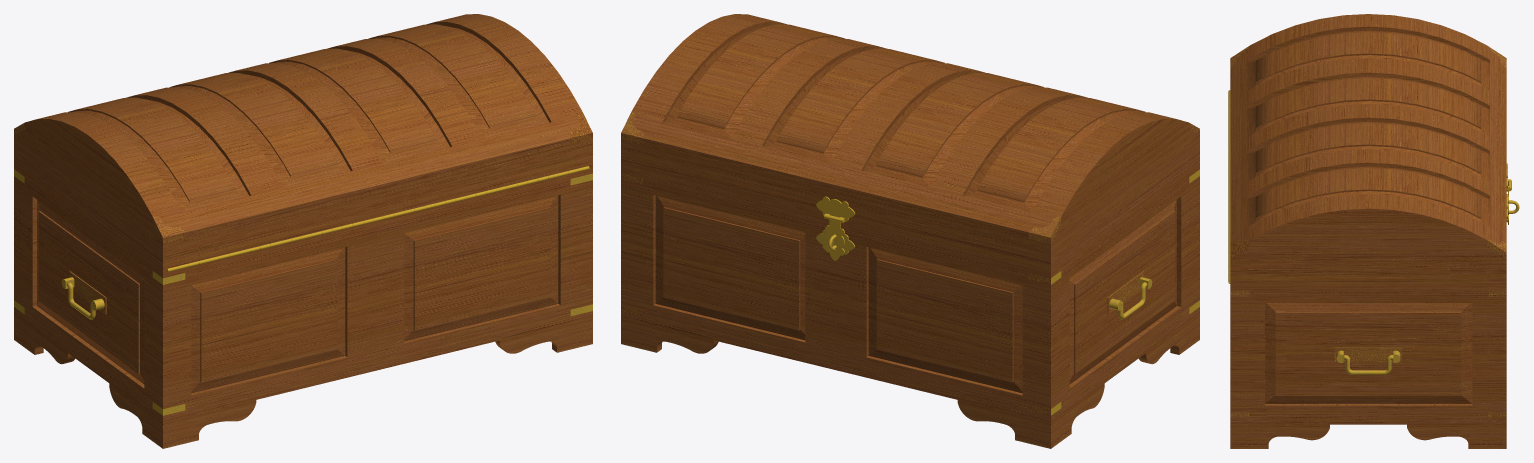
File: Brasswood-chest (1).fbx
3 renders of one model, left to right at view 1: azimuth 30°, elevation 25°; view 2: azimuth 150°, elevation 25°; view 3: azimuth 270°, elevation 25°, orthographic. The views are drawn at different scales.
Visible parts, largest first — view 1: Component_1, ID859, ID565 (×2), ID32 (×4), Component_3 (×4), Component_2 (×2), ID539, Component_4 (×3), ID523, ID531, Piano_hing_lower_2; view 2: Component_1, ID859, ID565 (×2), ID32 (×4), Component_3 (×4), Component_2 (×2), ID539, Component_4 (×3), ID523, Component_11, Component_9; view 3: Component_1, ID32 (×4), ID859, ID539, Component_3 (×4), ID523, Component_4 (×2), Component_6, ID531, Component_13, Piano_hing_lower_2.
Boxes of the visible parts, x1,y1,x2,y2 form: Component_1: [14, 14, 592, 271]; ID859: [14, 163, 592, 422]; ID565 (×2): [201, 208, 550, 382]; ID32 (×4): [78, 24, 536, 200]; Component_3 (×4): [68, 22, 549, 212]; Component_2 (×2): [191, 195, 560, 395]; ID539: [38, 211, 138, 373]; Component_4 (×3): [14, 314, 592, 448]; ID523: [37, 200, 144, 384]; ID531: [32, 197, 144, 388]; Piano_hing_lower_2: [167, 166, 589, 272]; Component_1: [621, 14, 1199, 271]; ID859: [621, 163, 1199, 422]; ID565 (×2): [663, 208, 1012, 382]; ID32 (×4): [677, 24, 1135, 200]; Component_3 (×4): [663, 22, 1145, 212]; Component_2 (×2): [653, 195, 1022, 395]; ID539: [1075, 211, 1175, 373]; Component_4 (×3): [621, 314, 1199, 448]; ID523: [1069, 197, 1181, 384]; Component_11: [816, 196, 855, 222]; Component_9: [825, 215, 844, 260]; Component_1: [1230, 14, 1506, 284]; ID32 (×4): [1256, 32, 1480, 217]; ID859: [1230, 284, 1506, 424]; ID539: [1275, 313, 1461, 395]; Component_3 (×4): [1247, 26, 1489, 226]; ID523: [1265, 303, 1472, 403]; Component_4 (×2): [1230, 424, 1506, 448]; Component_6: [1334, 347, 1402, 362]; ID531: [1265, 404, 1472, 405]; Component_13: [1343, 355, 1393, 374]; Piano_hing_lower_2: [1228, 90, 1230, 283].
Size of the model in its own units: 34.26 by 20.72 by 18.88.
6 materials, 2 textured.
